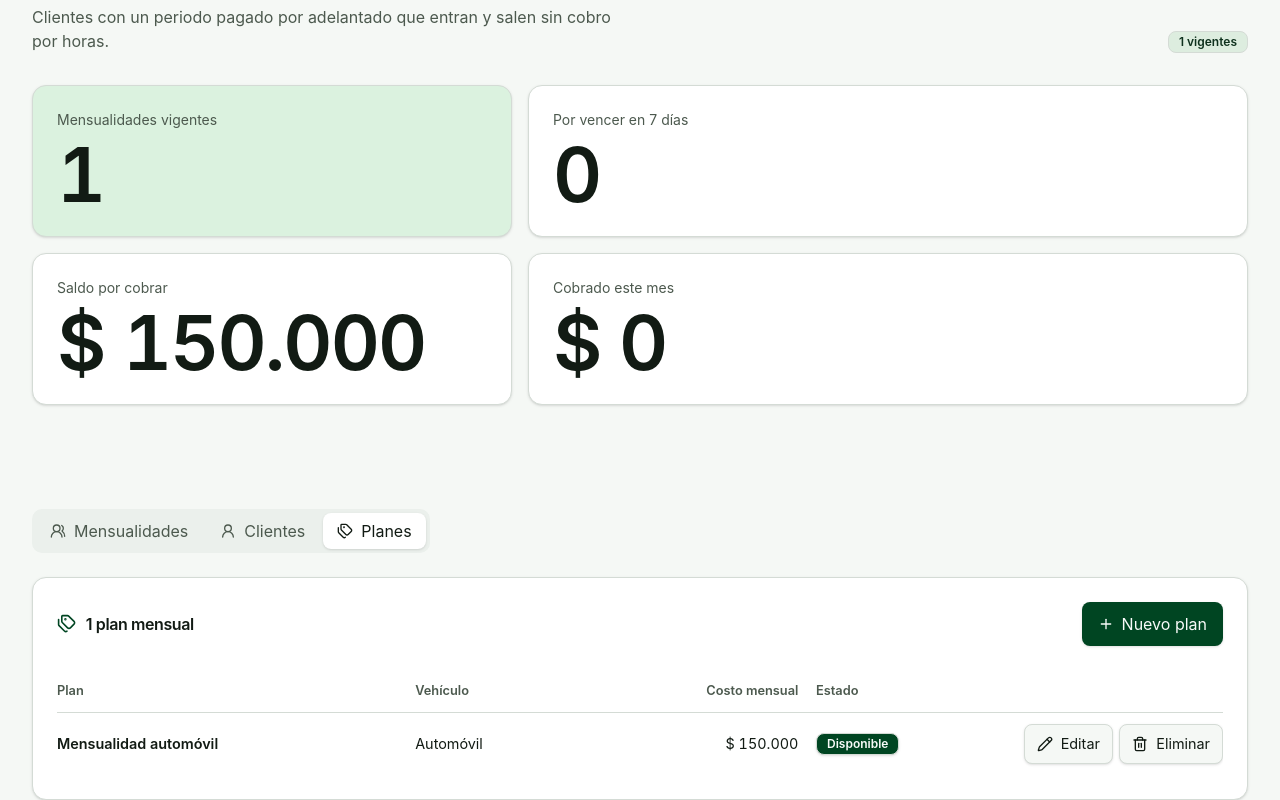
Test: Mensualidades › muestra el error de eliminación dentro de la confirmación y permite volver
(page scrolled)
Expected: the table is shown, [57,670,1223,775]
Click the button "Eliminar".
click(1171, 744)  # box [1119,724,1223,764]
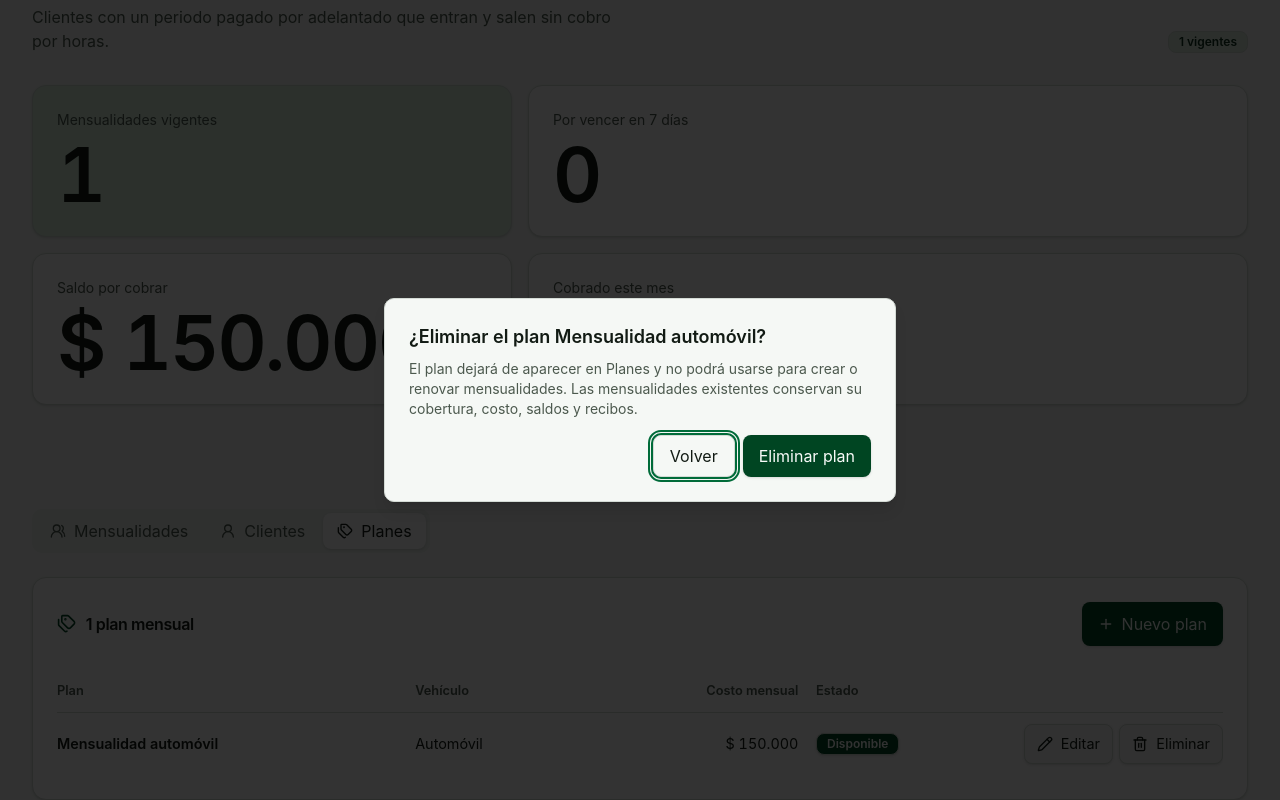
Click the button "Eliminar plan".
click(807, 456)  # box [743,435,871,477]
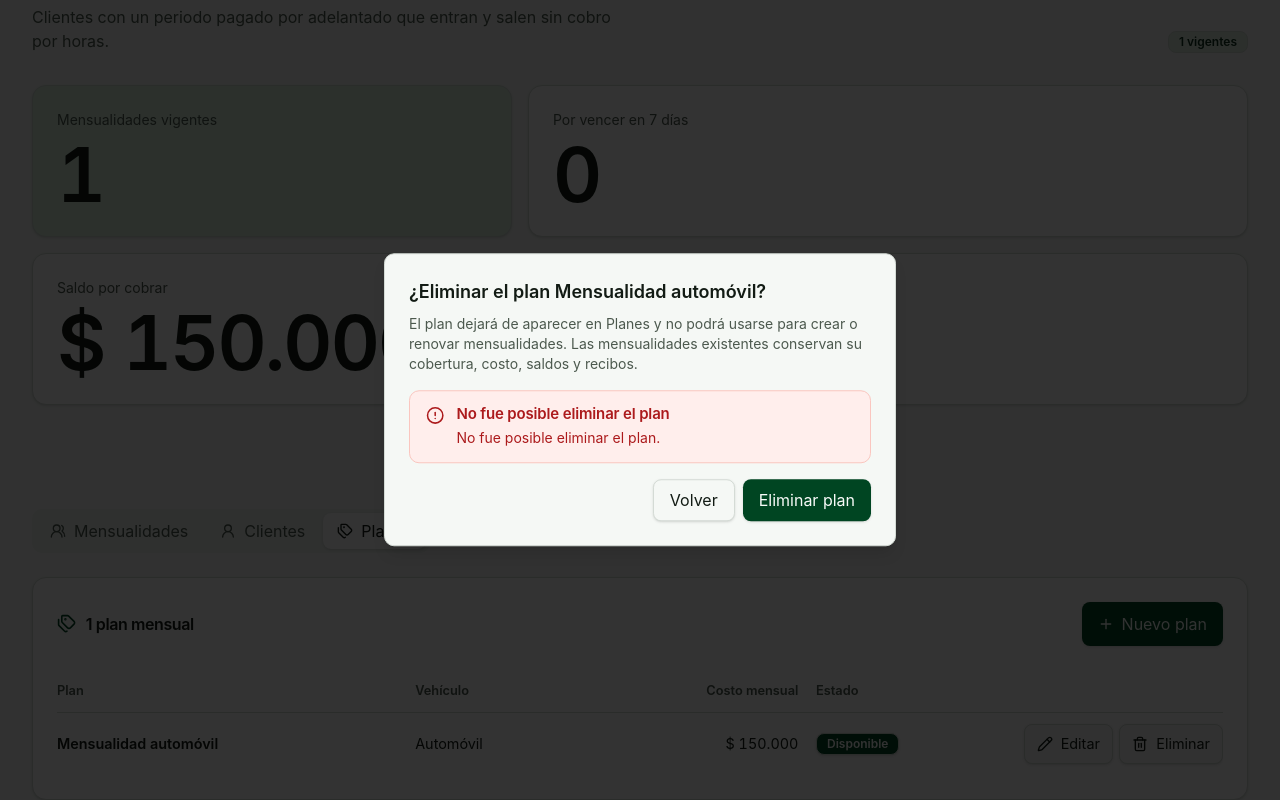
Expected: the text "No fue posible eliminar el plan." is shown, [456,429,660,446]
Click the button "Volver".
click(694, 501)  # box [653,480,735,522]
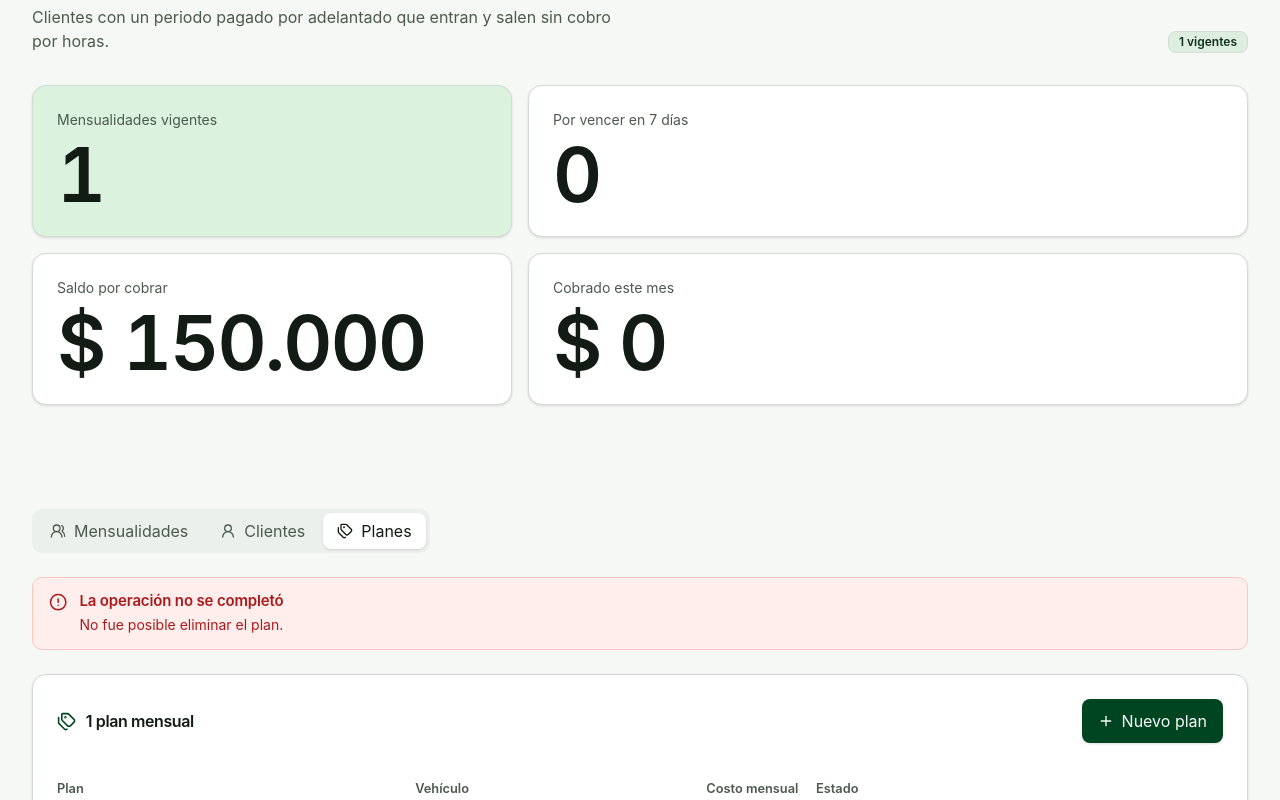
Expected: the dialog is gone
